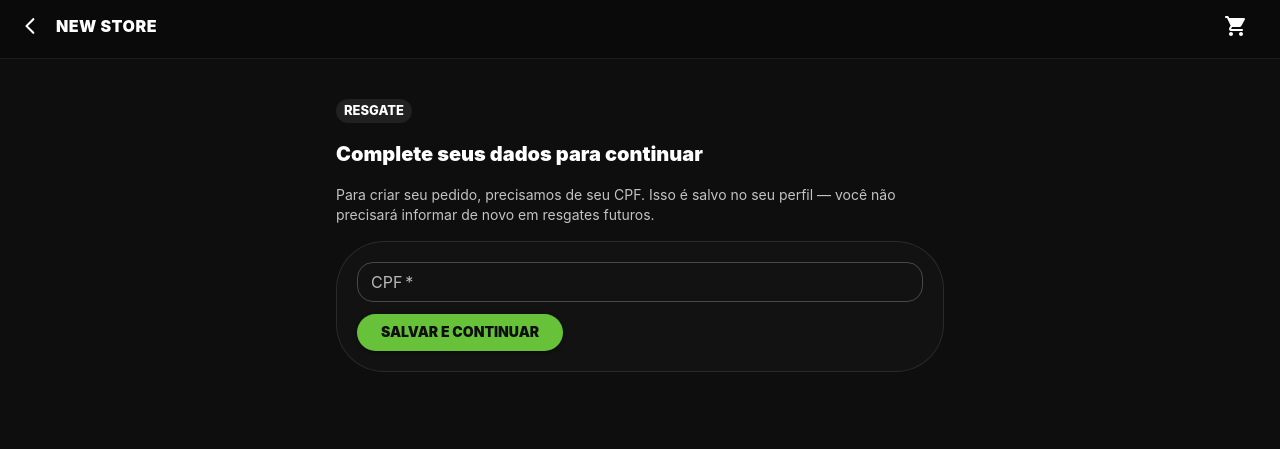
Test: cpf invalido nunca chega a rede
The image size is (1280, 449).
Step 1. Type "123.456.789-00" into the field labelled "CPF *" → (640, 282), box [357, 262, 923, 302]
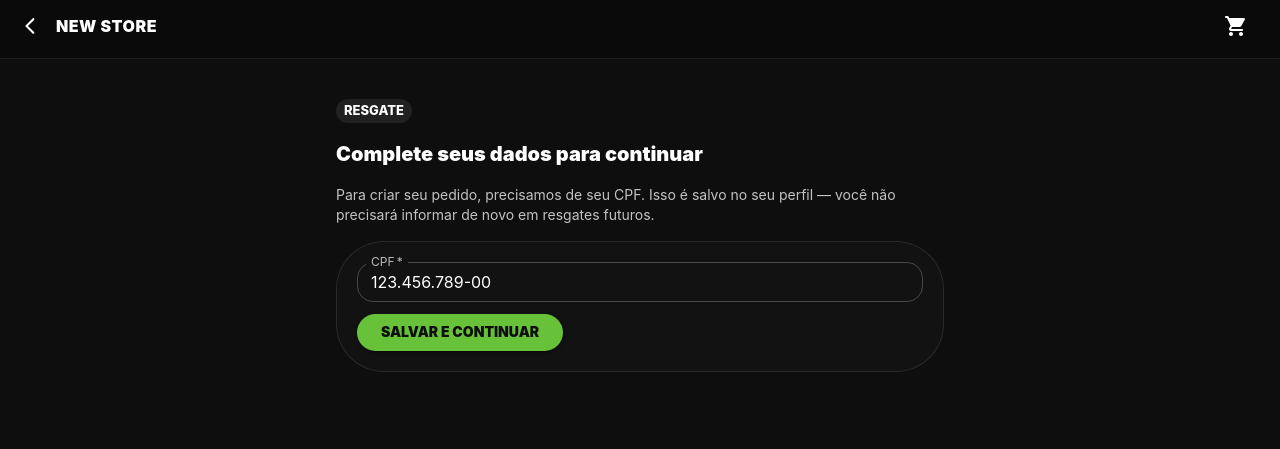
Step 2. Click the button "SALVAR E CONTINUAR" → (460, 332), box [357, 314, 563, 350]
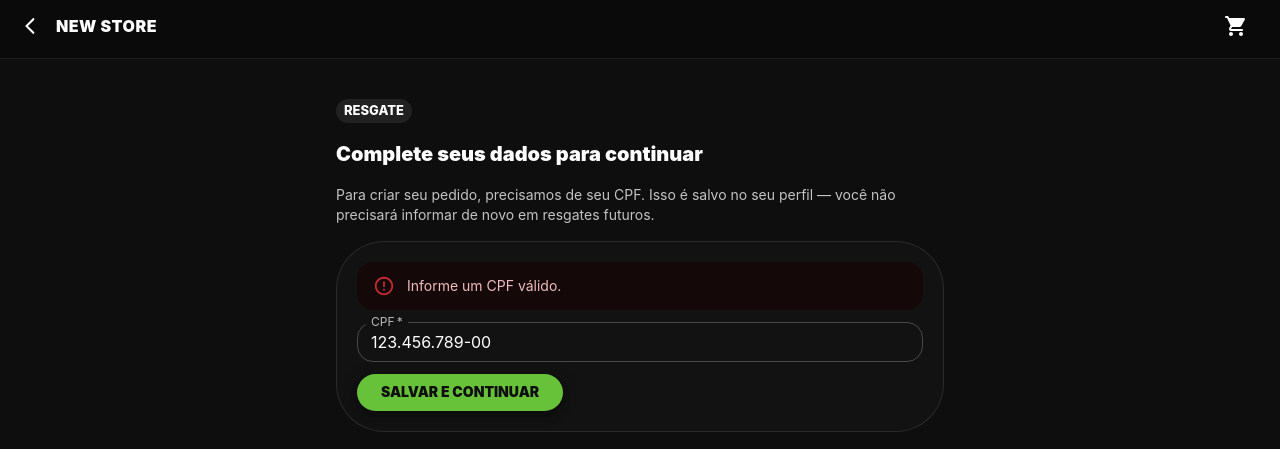
Check: the text "Informe um CPF válido." is shown, box [407, 277, 561, 294]
